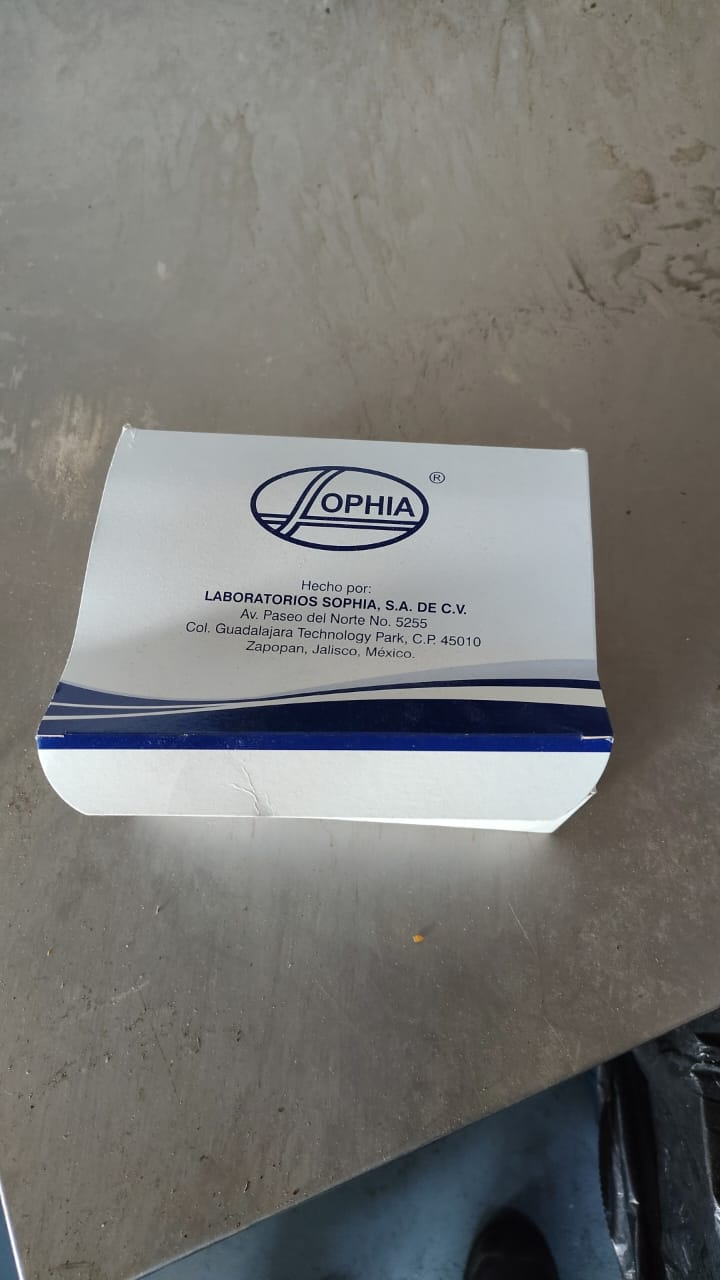Carton: (34, 421, 616, 837)
